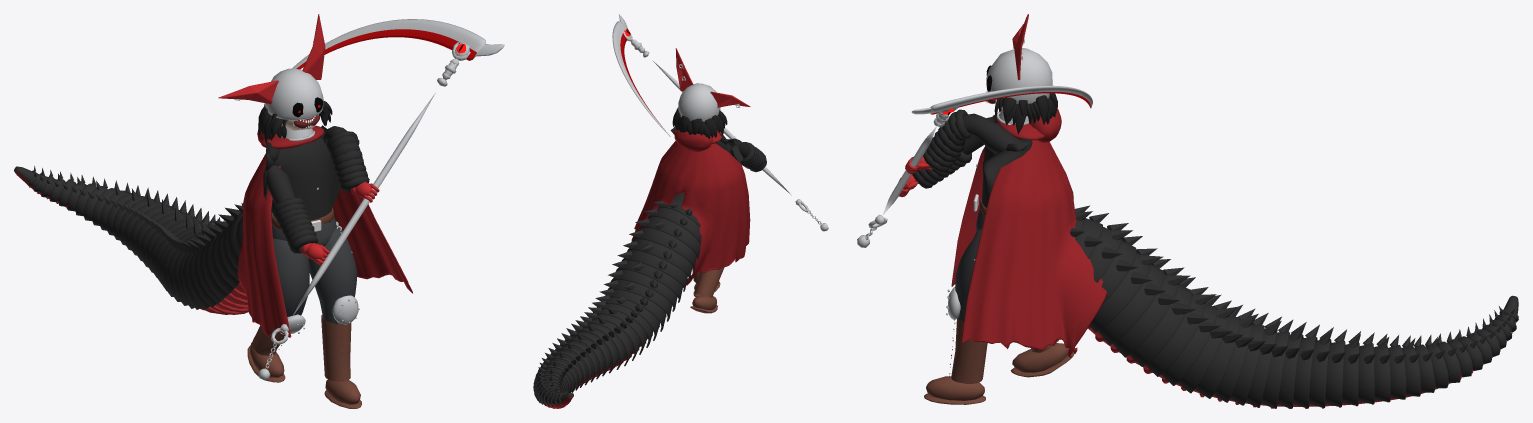
Rendered from jefrie-hand-built-a.glb.
The picture shows the model from 3 angles, left to right: view 1: azimuth 30°, elevation 25°; view 2: azimuth 150°, elevation 25°; view 3: azimuth 270°, elevation 25°; orthographic projection. The views are drawn at different scales.
Parts seen in each view (by area): view 1: toy; view 2: toy; view 3: toy.
Boxes of the visible parts, x1,y1,x2,y2 form: toy: [14, 14, 504, 408]; toy: [533, 14, 828, 408]; toy: [857, 14, 1518, 408].
Bounding box in the file's own units: 0.7743 × 1 × 1.52.
